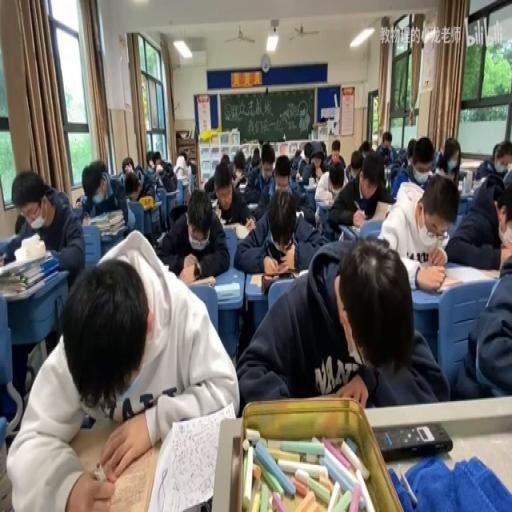calculator: (91, 440, 158, 510), (421, 270, 468, 292), (247, 269, 295, 287), (221, 219, 252, 238), (214, 282, 240, 300), (187, 273, 215, 286), (302, 182, 316, 208), (338, 222, 358, 240), (470, 176, 483, 192), (482, 268, 500, 278), (314, 196, 332, 206), (384, 165, 391, 189), (81, 213, 91, 226), (155, 232, 165, 244), (236, 179, 246, 189), (210, 196, 218, 208), (150, 198, 162, 206), (216, 216, 226, 225), (247, 202, 258, 210), (294, 174, 302, 180)
paper: (10, 226, 237, 509), (237, 232, 441, 410), (4, 168, 86, 296), (381, 168, 456, 286), (233, 186, 328, 276), (155, 185, 229, 280), (443, 169, 511, 272), (326, 148, 394, 239), (78, 156, 128, 238), (243, 145, 275, 206), (202, 151, 241, 199), (470, 141, 510, 182), (434, 138, 462, 185), (150, 154, 177, 192), (290, 141, 312, 182), (390, 165, 413, 199), (272, 155, 291, 195), (321, 139, 343, 172), (123, 168, 143, 202), (375, 130, 394, 164), (173, 152, 192, 186), (344, 152, 360, 181), (328, 164, 344, 192), (403, 137, 416, 165), (232, 151, 246, 175), (109, 172, 123, 194), (309, 141, 325, 159), (122, 155, 134, 174), (359, 140, 370, 160), (146, 150, 155, 170), (251, 146, 260, 166), (187, 161, 197, 176), (185, 186, 192, 204), (220, 154, 229, 164), (75, 195, 83, 206), (154, 154, 160, 164)
person: (374, 422, 451, 461), (194, 262, 200, 278)
